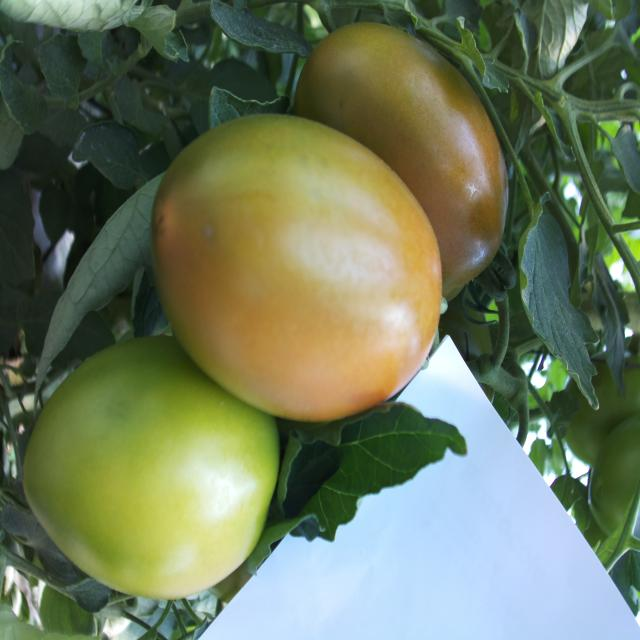sari: (153, 84, 481, 404)
yesil: (19, 297, 276, 625)
